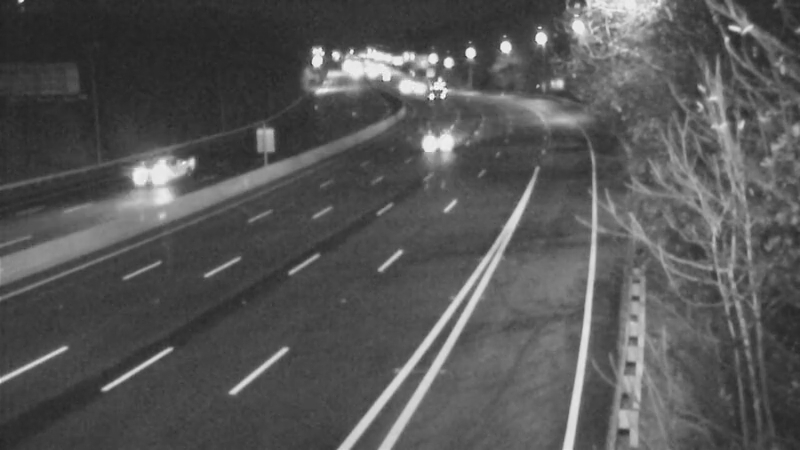vehicle: (119, 129, 199, 209), (410, 64, 460, 114), (420, 114, 470, 164)
